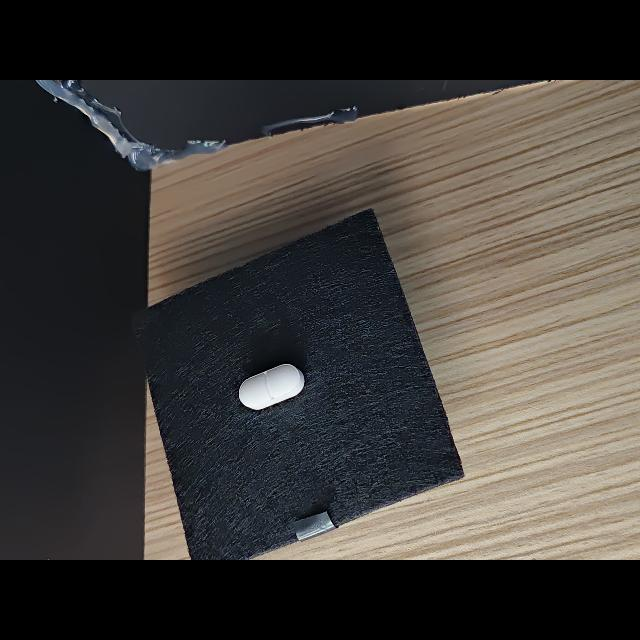Intact Pill: (239, 364, 304, 410)
